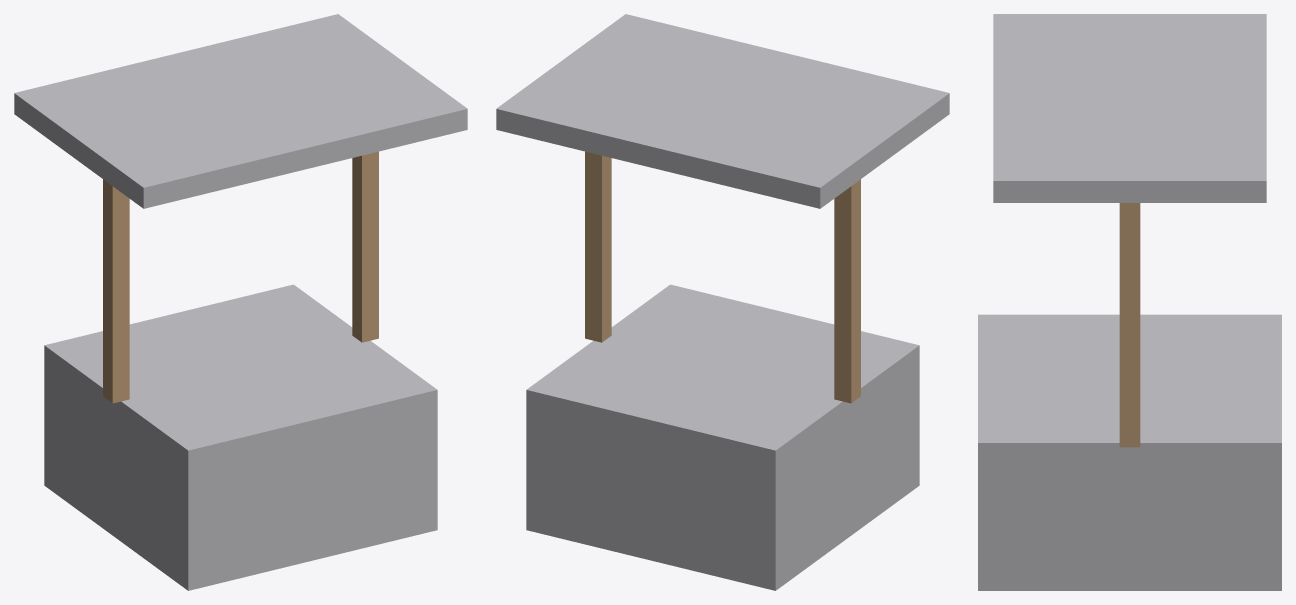
The model's file is Prop_Water_AMF_Well_V1.glb.
The picture shows the model from 3 angles, left to right: view 1: azimuth 30°, elevation 25°; view 2: azimuth 150°, elevation 25°; view 3: azimuth 270°, elevation 25°; orthographic projection. The views are drawn at different scales.
Parts seen in each view (by area): view 1: Prop_Water_AMF_Well_V1; view 2: Prop_Water_AMF_Well_V1; view 3: Prop_Water_AMF_Well_V1.
Boxes of the visible parts, box(x1,y1,x2,y2) form: Prop_Water_AMF_Well_V1: box(14, 14, 467, 590); Prop_Water_AMF_Well_V1: box(496, 14, 949, 590); Prop_Water_AMF_Well_V1: box(978, 14, 1281, 590).
Bounding box in the file's own units: 1.93 × 2.32 × 1.49.
